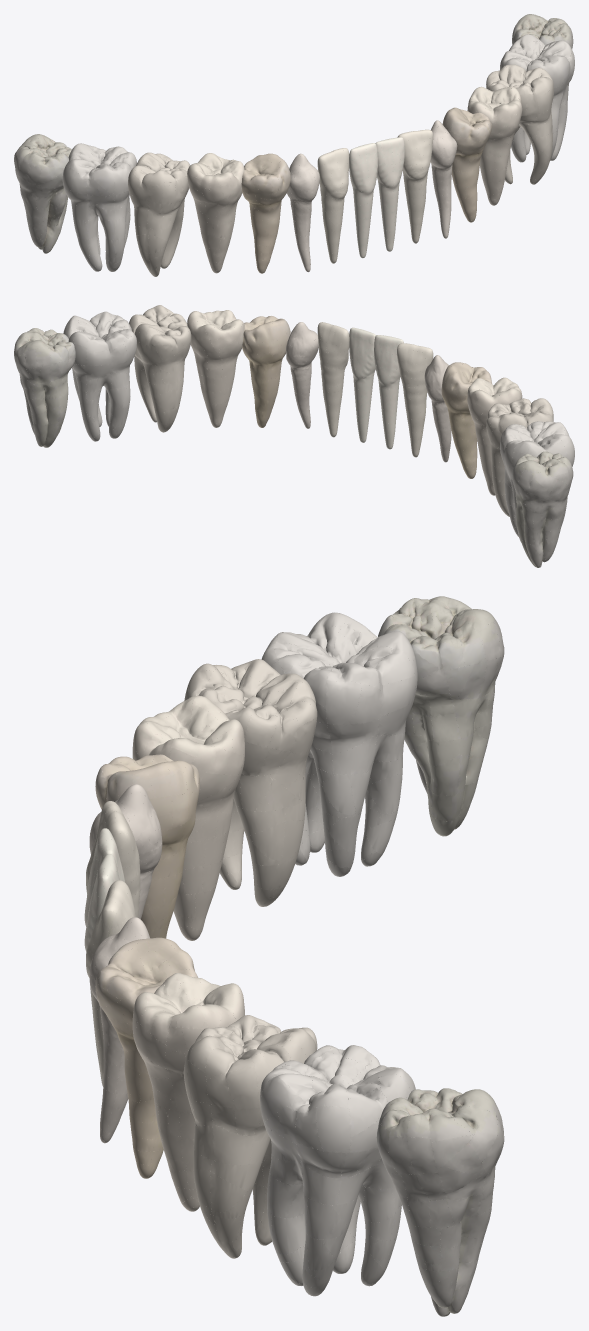
File: inferior_permanente_optimizado.glb
3 renders of one model, top to bottom at view 1: azimuth 30°, elevation 25°; view 2: azimuth 150°, elevation 25°; view 3: azimuth 270°, elevation 25°, orthographic. The views are drawn at different scales.
Visible parts, largest first — view 1: diente_37, diente_36, diente_38, diente_35, diente_46, diente_47, diente_34, diente_45, diente_44, diente_32, diente_42, diente_31 (+4 smaller); view 2: diente_47, diente_46, diente_38, diente_48, diente_45, diente_44, diente_37, diente_34, diente_36, diente_42, diente_32, diente_35 (+4 smaller); view 3: diente_47, diente_37, diente_48, diente_36, diente_46, diente_38, diente_35, diente_45, diente_44, diente_34, diente_43, diente_33 (+4 smaller).
Boxes of the visible parts, x1,y1,x2,y2 form: diente_37: [62, 143, 136, 271]; diente_36: [128, 152, 189, 276]; diente_38: [14, 134, 71, 253]; diente_35: [187, 153, 244, 273]; diente_46: [486, 64, 553, 184]; diente_47: [500, 34, 574, 162]; diente_34: [241, 153, 290, 273]; diente_45: [467, 86, 522, 205]; diente_44: [442, 107, 492, 222]; diente_32: [317, 148, 349, 263]; diente_42: [397, 129, 433, 243]; diente_31: [349, 143, 377, 258]; diente_47: [63, 311, 136, 441]; diente_46: [129, 305, 191, 432]; diente_38: [512, 451, 573, 567]; diente_48: [14, 328, 75, 447]; diente_45: [187, 310, 244, 427]; diente_44: [242, 316, 290, 427]; diente_37: [500, 421, 574, 542]; diente_34: [441, 362, 491, 478]; diente_36: [486, 398, 553, 516]; diente_42: [317, 322, 349, 437]; diente_32: [397, 343, 433, 457]; diente_35: [467, 377, 522, 495]; diente_47: [260, 1045, 415, 1296]; diente_37: [261, 612, 417, 876]; diente_48: [376, 1088, 504, 1316]; diente_36: [184, 659, 317, 906]; diente_46: [183, 1015, 317, 1258]; diente_38: [378, 596, 504, 836]; diente_35: [132, 695, 244, 940]; diente_45: [132, 973, 244, 1211]; diente_44: [95, 937, 197, 1178]; diente_34: [95, 754, 199, 938]; diente_43: [89, 917, 150, 1143]; diente_33: [89, 784, 162, 919].
Bounding box in the file's own units: 9.78 × 1.9 × 3.22.
Materials: 8 (8 with a texture image).
